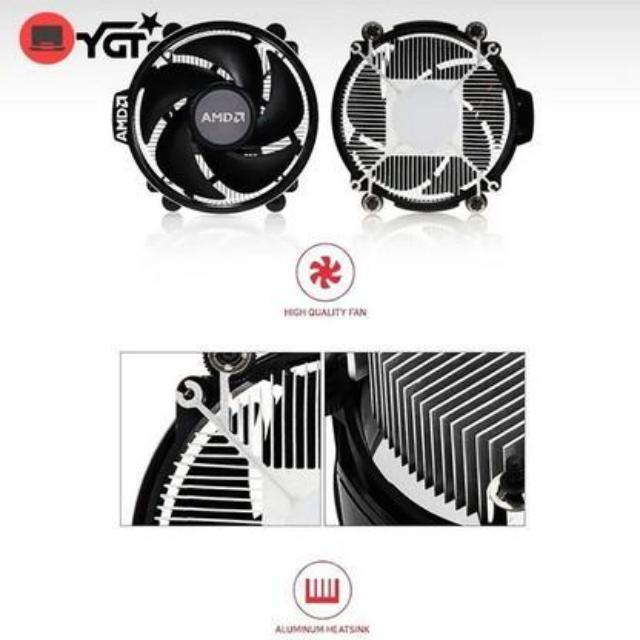CPU_Fan: (120, 22, 302, 215), (333, 24, 507, 207)
